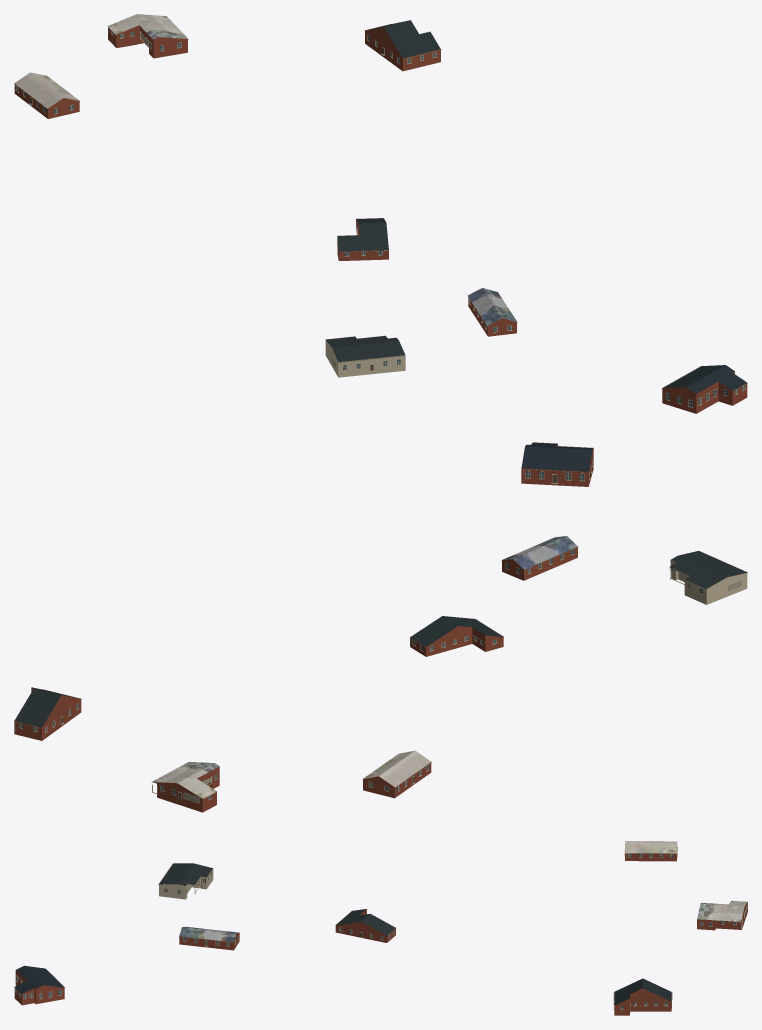
3 views of the same model, one above another, from view 1: azimuth 30°, elevation 25°; view 2: azimuth 150°, elevation 25°; view 3: azimuth 270°, elevation 25° (orthographic). The views are drawn at different scales.
Visible parts, largest first — view 1: -6_2_607922766_3, -6_2_607922770_4, -6_2_607924442_15; view 2: -6_2_607922766_3, -6_2_607922770_4, -6_2_607924442_15; view 3: -6_2_607922766_3, -6_2_607922770_4, -6_2_607924442_15.
Part boxes in pixels (box(x1,y1,x2,y2)): -6_2_607922766_3: box(14, 20, 747, 413); -6_2_607922770_4: box(14, 14, 517, 325); -6_2_607924442_15: box(325, 340, 405, 377); -6_2_607922766_3: box(14, 442, 747, 812); -6_2_607922770_4: box(152, 536, 577, 798); -6_2_607924442_15: box(669, 560, 747, 604); -6_2_607922766_3: box(14, 844, 747, 1015); -6_2_607922770_4: box(179, 841, 747, 942); -6_2_607924442_15: box(159, 868, 213, 899).
Bounding box in the file's own units: 145 × 27.09 × 309.
12 materials, 1 textured.
